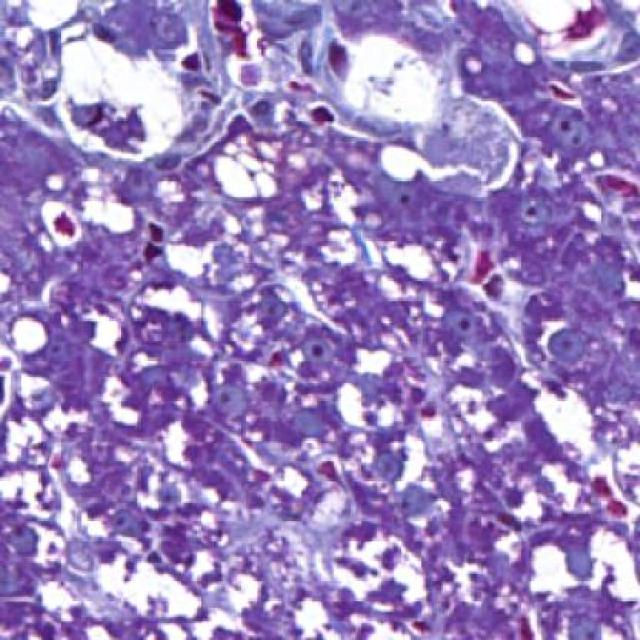ballooning: (32, 24, 198, 166)
